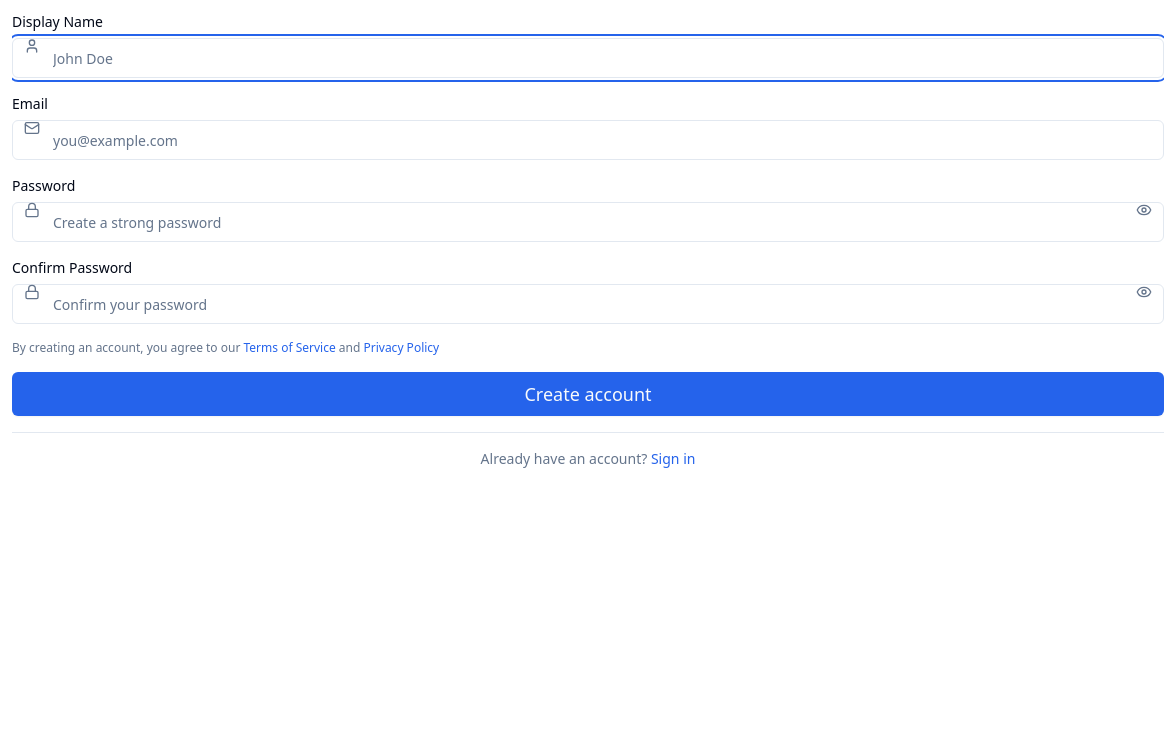
Test case: RegisterForm › Form Validation › should show error when display name is empty and form is submitted
Click the button "Create account".
click(588, 394)  # box [12, 372, 1164, 416]
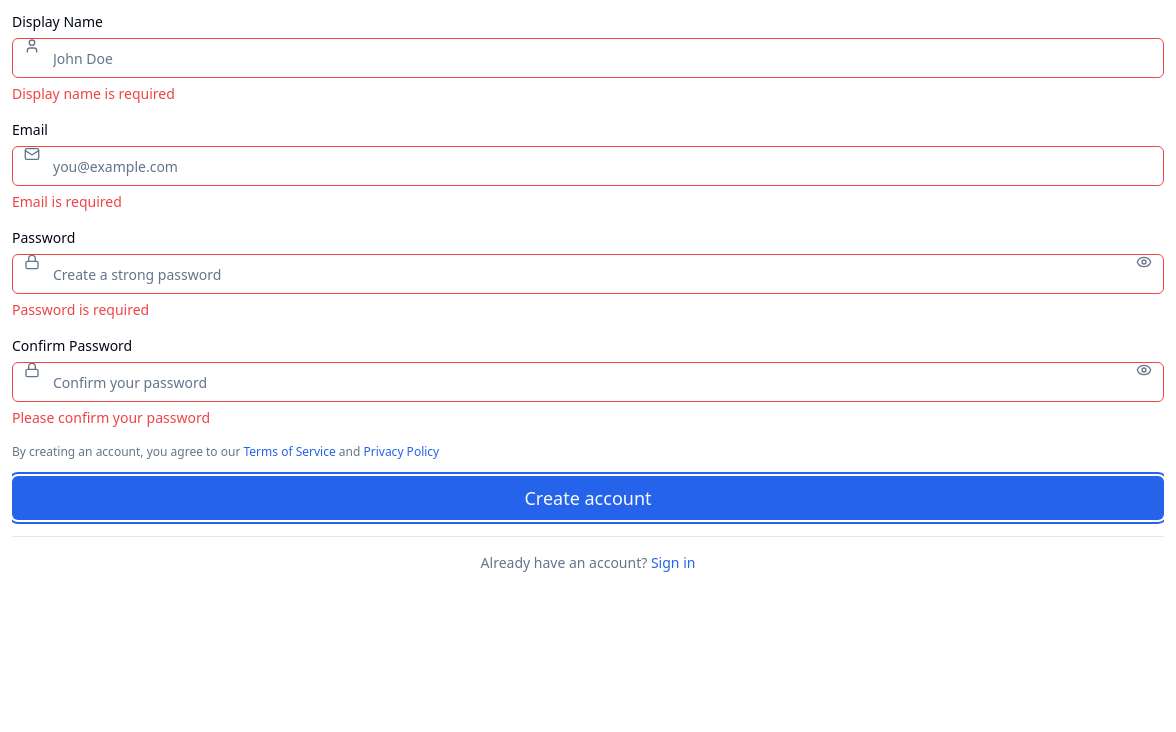
Result: the text "Display name is required" is shown at [12, 84, 175, 103]
